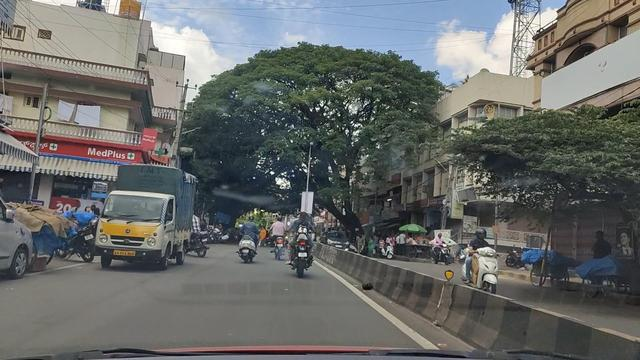HMV: (103, 162, 198, 269)
LMV: (287, 216, 323, 283), (233, 213, 264, 259)
